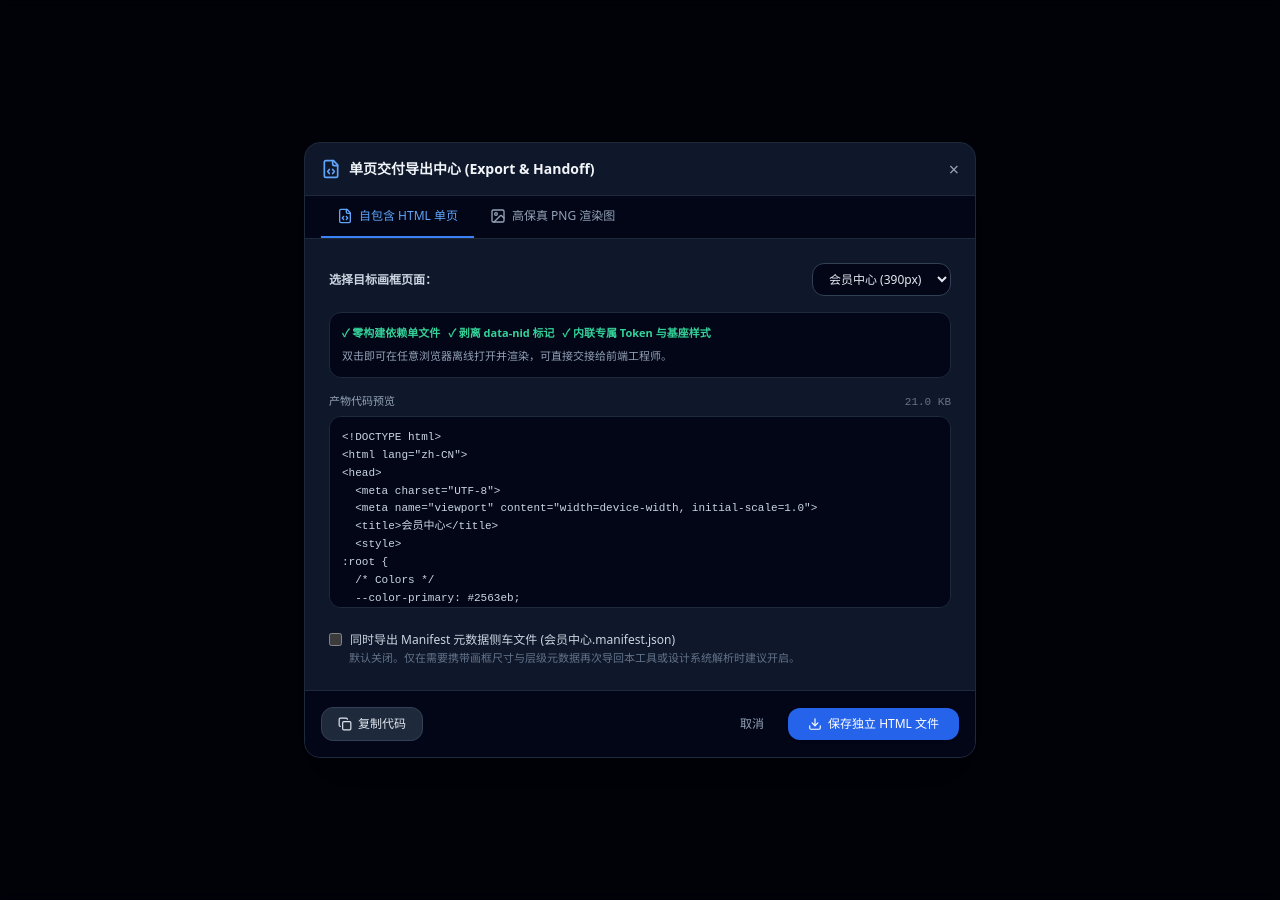
Scenario: 导出保存对话框与完成反馈 (Export Save Dialog & Feedback) › CHK-F-04 ~ CHK-F-06: 完成反馈 (BR-SAVE-05) › CHK-F-06: 反馈条可手动关闭
Click the button "保存独立 HTML 文件".
click(874, 724)  # box [788,708,959,740]
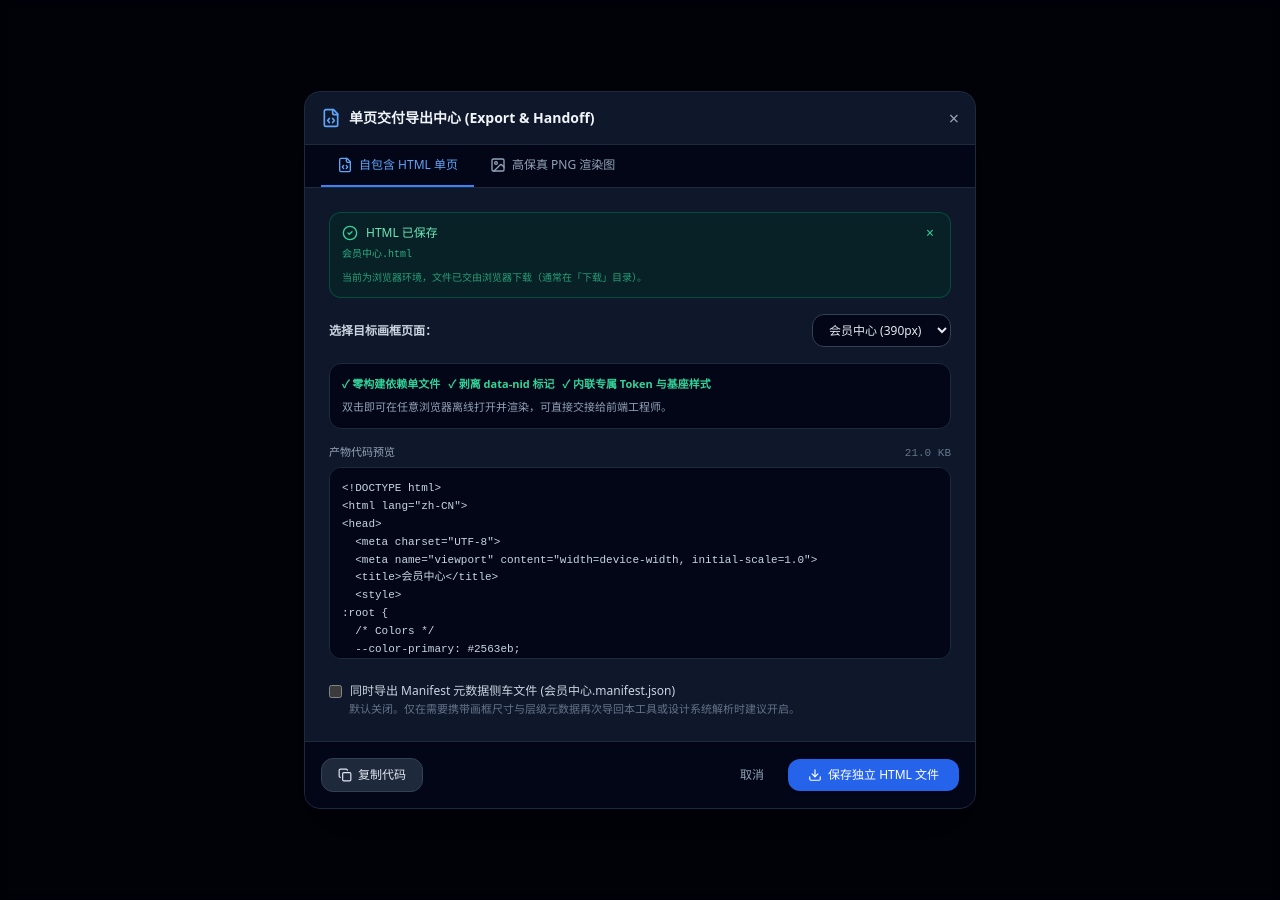
Click the button "×" in the row of "已保存".
click(930, 233)  # box [922,226,938,240]
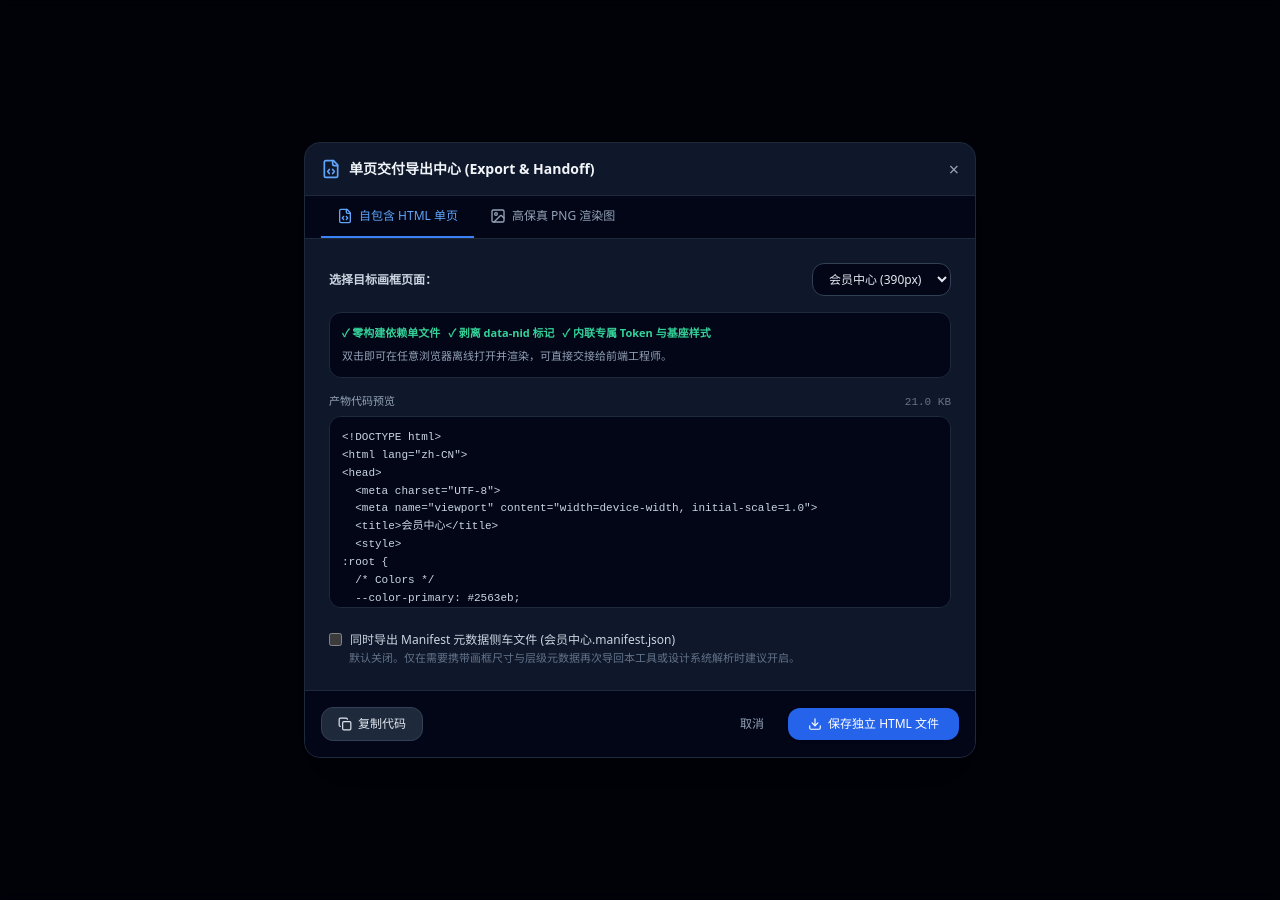
Check: the element with test id "export-success-banner" is gone
